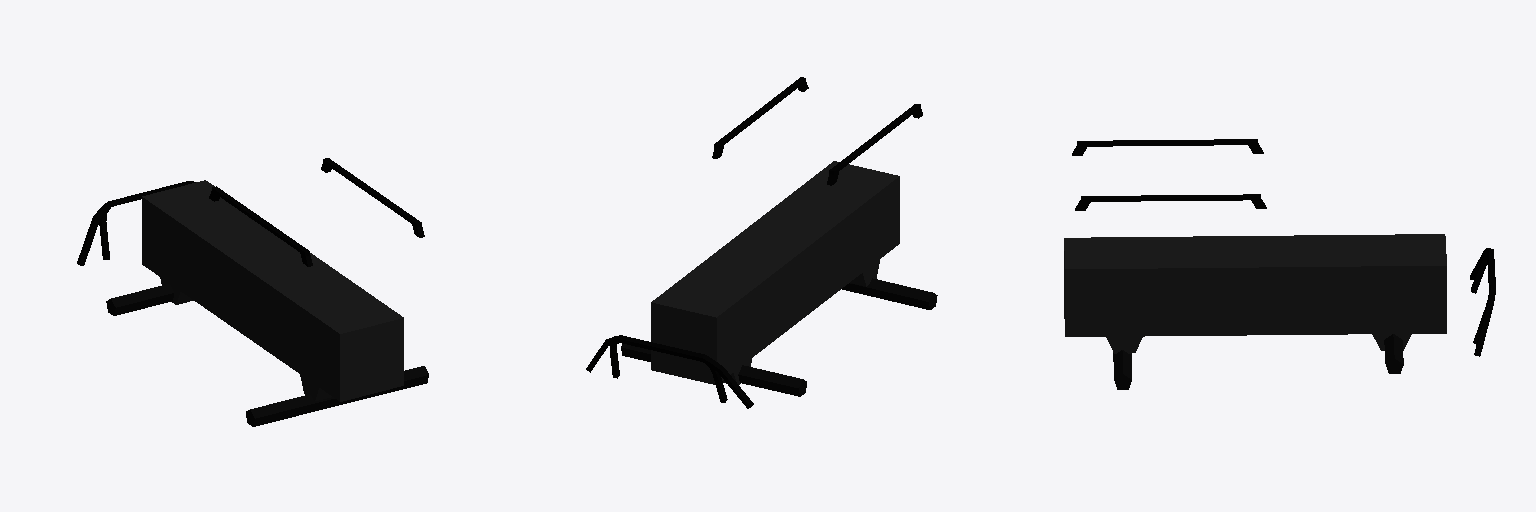
Rendered from chassis_o.obj.
The picture shows the model from 3 angles: view 1: azimuth 30°, elevation 25°; view 2: azimuth 150°, elevation 25°; view 3: azimuth 270°, elevation 25°; orthographic projection.
Parts seen in each view (by area): view 1: chassis_Cube.002, axleb_Cylinder.001, Cube.001, axlef_Cylinder.001, roofrackr_Cube.001, roofrackl_Cube.001; view 2: chassis_Cube.002, Cube.001, axlef_Cylinder.001, axleb_Cylinder.001, roofrackl_Cube.001, roofrackr_Cube.001; view 3: chassis_Cube.002, roofrackl_Cube.001, roofrackr_Cube.001, Cube.001, axlef_Cylinder.001, axleb_Cylinder.001.
Boxes of the visible parts, <box> form: chassis_Cube.002: <box>142,180,403,401</box>; axleb_Cylinder.001: <box>246,366,428,426</box>; Cube.001: <box>77,181,195,265</box>; axlef_Cylinder.001: <box>106,284,173,315</box>; roofrackr_Cube.001: <box>321,158,424,237</box>; roofrackl_Cube.001: <box>209,186,312,266</box>; chassis_Cube.002: <box>651,161,899,384</box>; Cube.001: <box>586,335,753,408</box>; axlef_Cylinder.001: <box>621,344,806,396</box>; axleb_Cylinder.001: <box>842,278,937,309</box>; roofrackl_Cube.001: <box>827,104,922,185</box>; roofrackr_Cube.001: <box>712,77,808,158</box>; chassis_Cube.002: <box>1064,234,1446,353</box>; roofrackl_Cube.001: <box>1072,139,1263,155</box>; roofrackr_Cube.001: <box>1075,194,1266,210</box>; Cube.001: <box>1470,248,1495,356</box>; axlef_Cylinder.001: <box>1384,334,1403,373</box>; axleb_Cylinder.001: <box>1113,350,1131,389</box>.
Bounding box in the file's own units: 2.42 × 2.31 × 5.03.